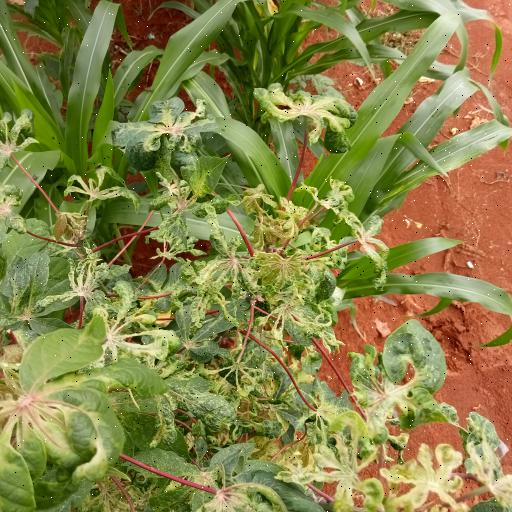Cassava_Mosaic: (3, 336, 154, 512), (351, 324, 458, 432), (250, 81, 356, 135), (110, 97, 206, 154)
